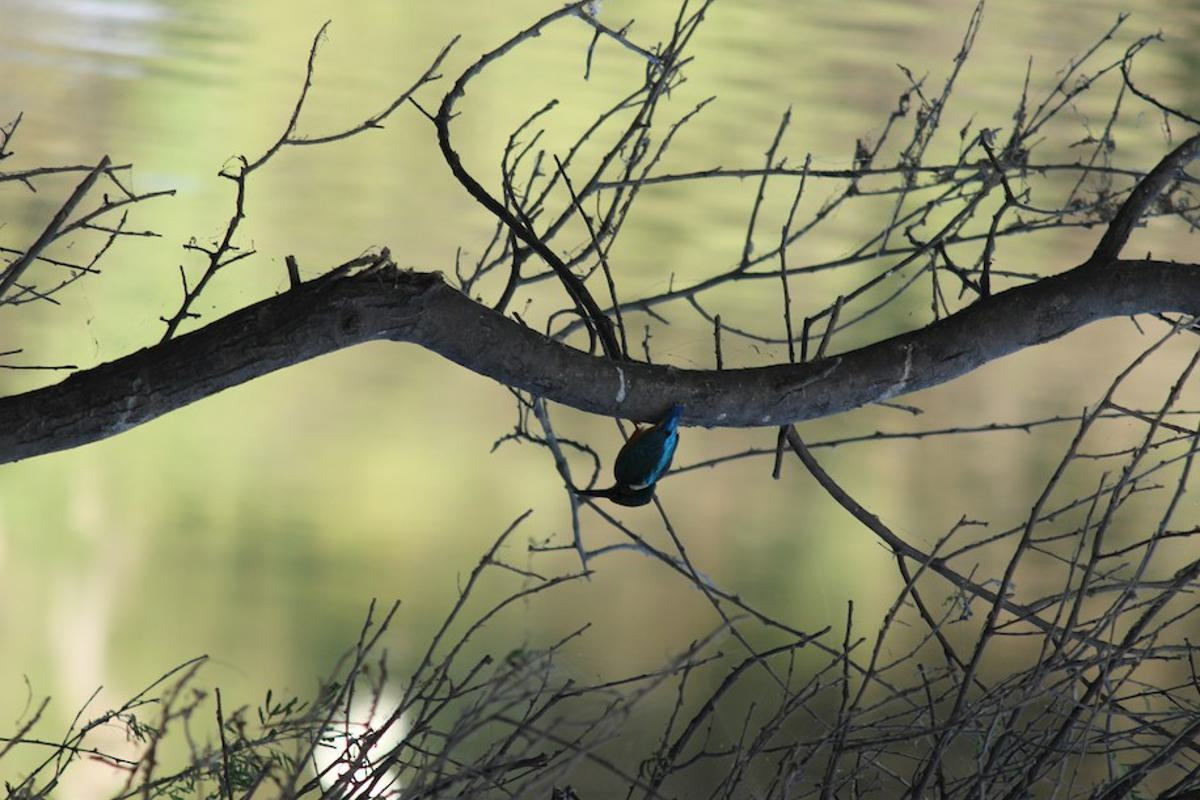kingfisher: (564, 402, 682, 504)
